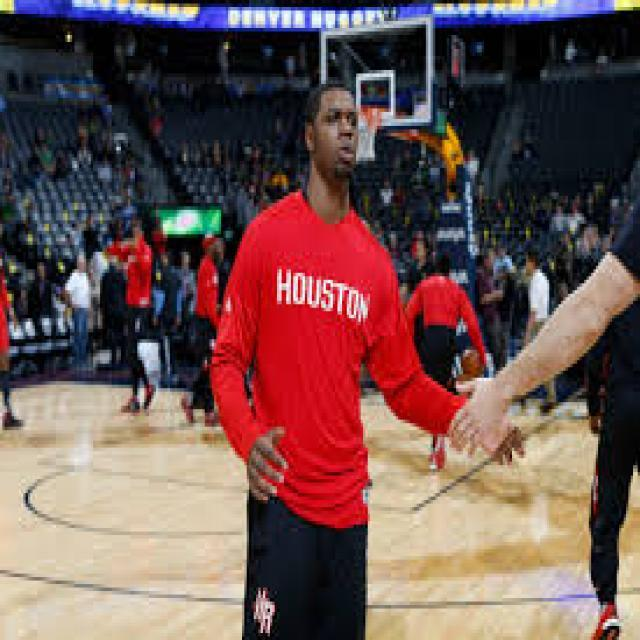rim: (460, 349, 484, 382)
